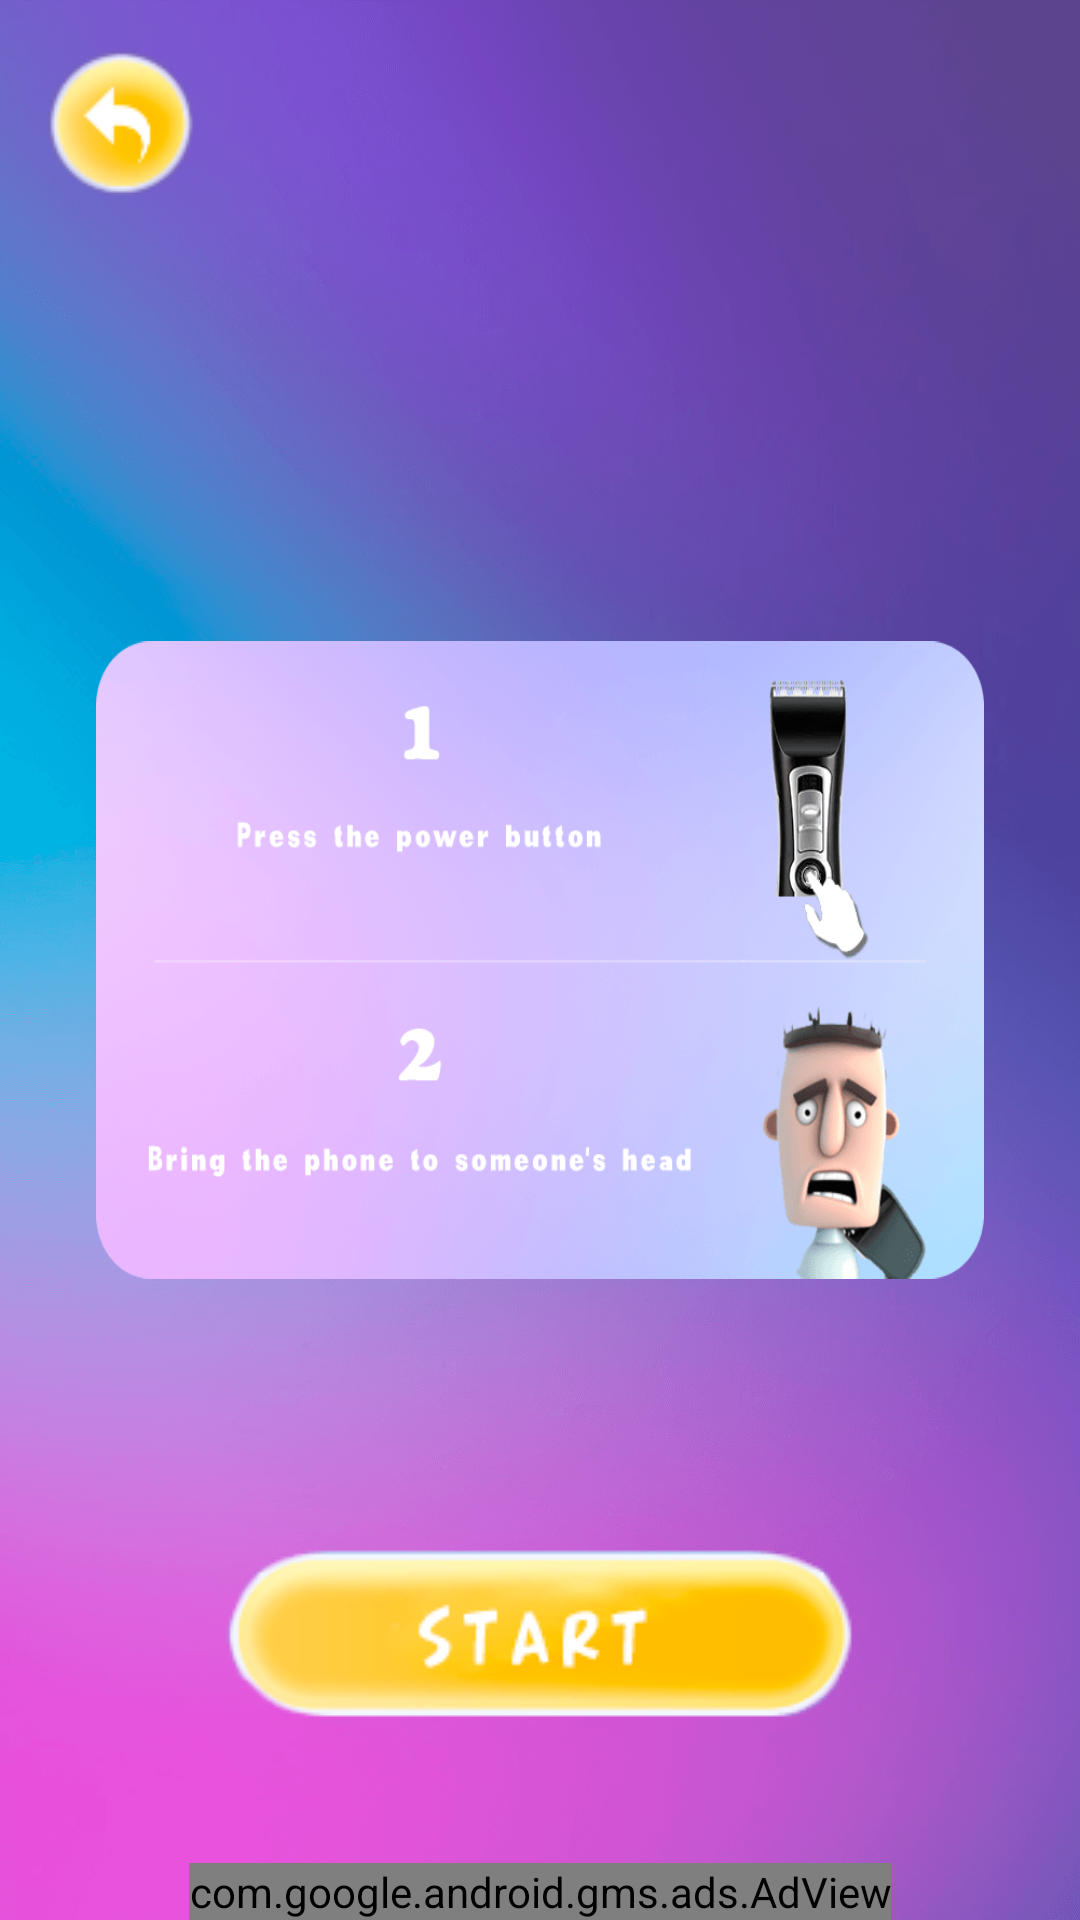

Icon click points for this 1080×1920 phone screenshot, format [x,y]:
back: [121,123]
